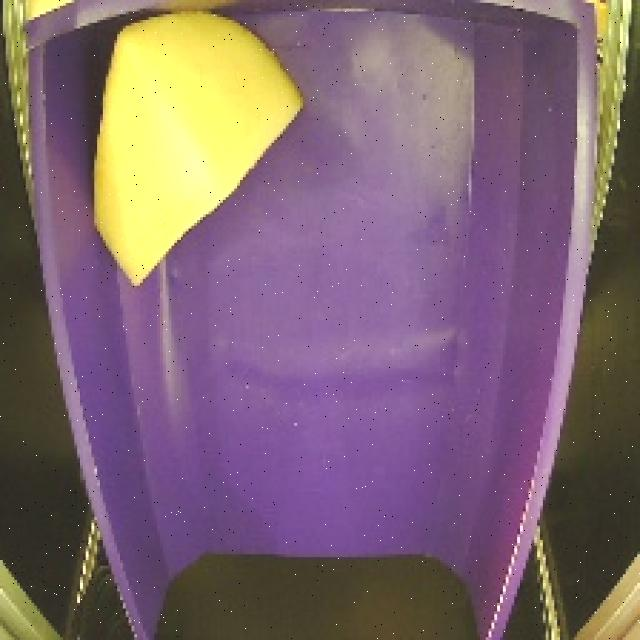potato: (77, 6, 318, 295)
